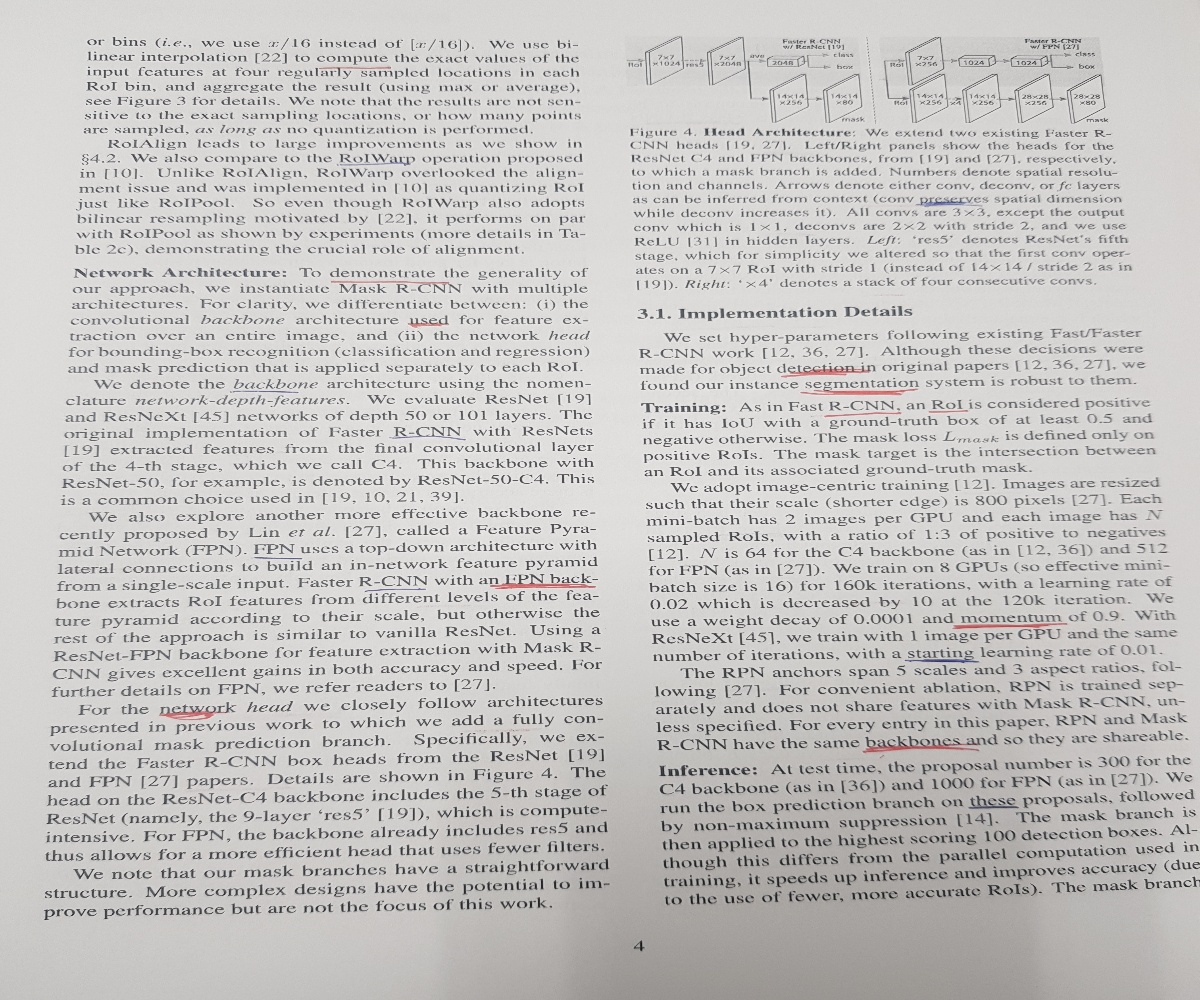underline: (860, 743, 982, 755), (487, 581, 597, 592), (951, 621, 1067, 631), (798, 387, 918, 396), (331, 276, 451, 285), (155, 709, 226, 723), (777, 368, 873, 376), (388, 432, 469, 441), (905, 657, 984, 666), (823, 410, 902, 418), (335, 159, 413, 167), (320, 63, 396, 71), (227, 387, 299, 395), (360, 586, 429, 594), (250, 553, 304, 563), (927, 407, 970, 418), (916, 200, 980, 207), (965, 803, 1020, 811), (406, 321, 450, 331)
